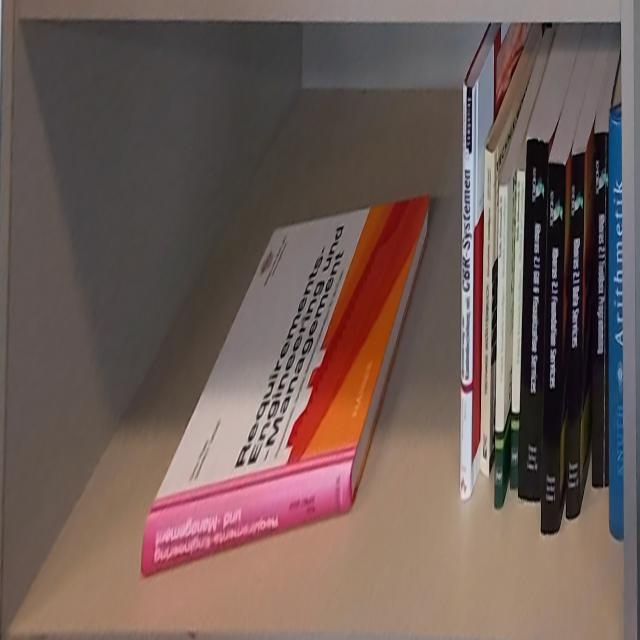Book Spine: (140, 461, 353, 580), (517, 138, 548, 503), (541, 162, 566, 535), (460, 81, 477, 502), (567, 153, 586, 520), (609, 113, 624, 543), (591, 130, 608, 488), (479, 145, 496, 479), (511, 171, 526, 491), (494, 184, 507, 512)
